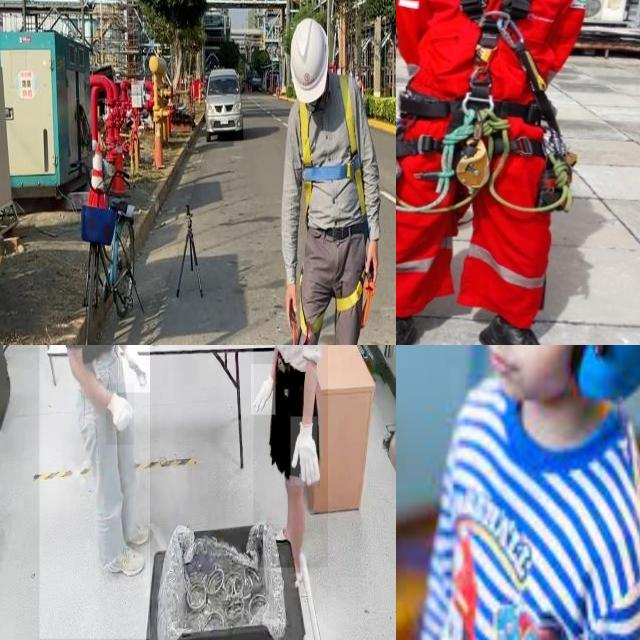Harness: (400, 0, 568, 160), (299, 76, 366, 216)
hand_glove: (290, 416, 318, 486), (106, 384, 134, 446), (117, 345, 150, 392), (251, 364, 276, 416)
person: (423, 345, 640, 640), (39, 345, 150, 639), (253, 345, 328, 568)
shoes: (102, 539, 144, 583), (117, 513, 151, 547)
